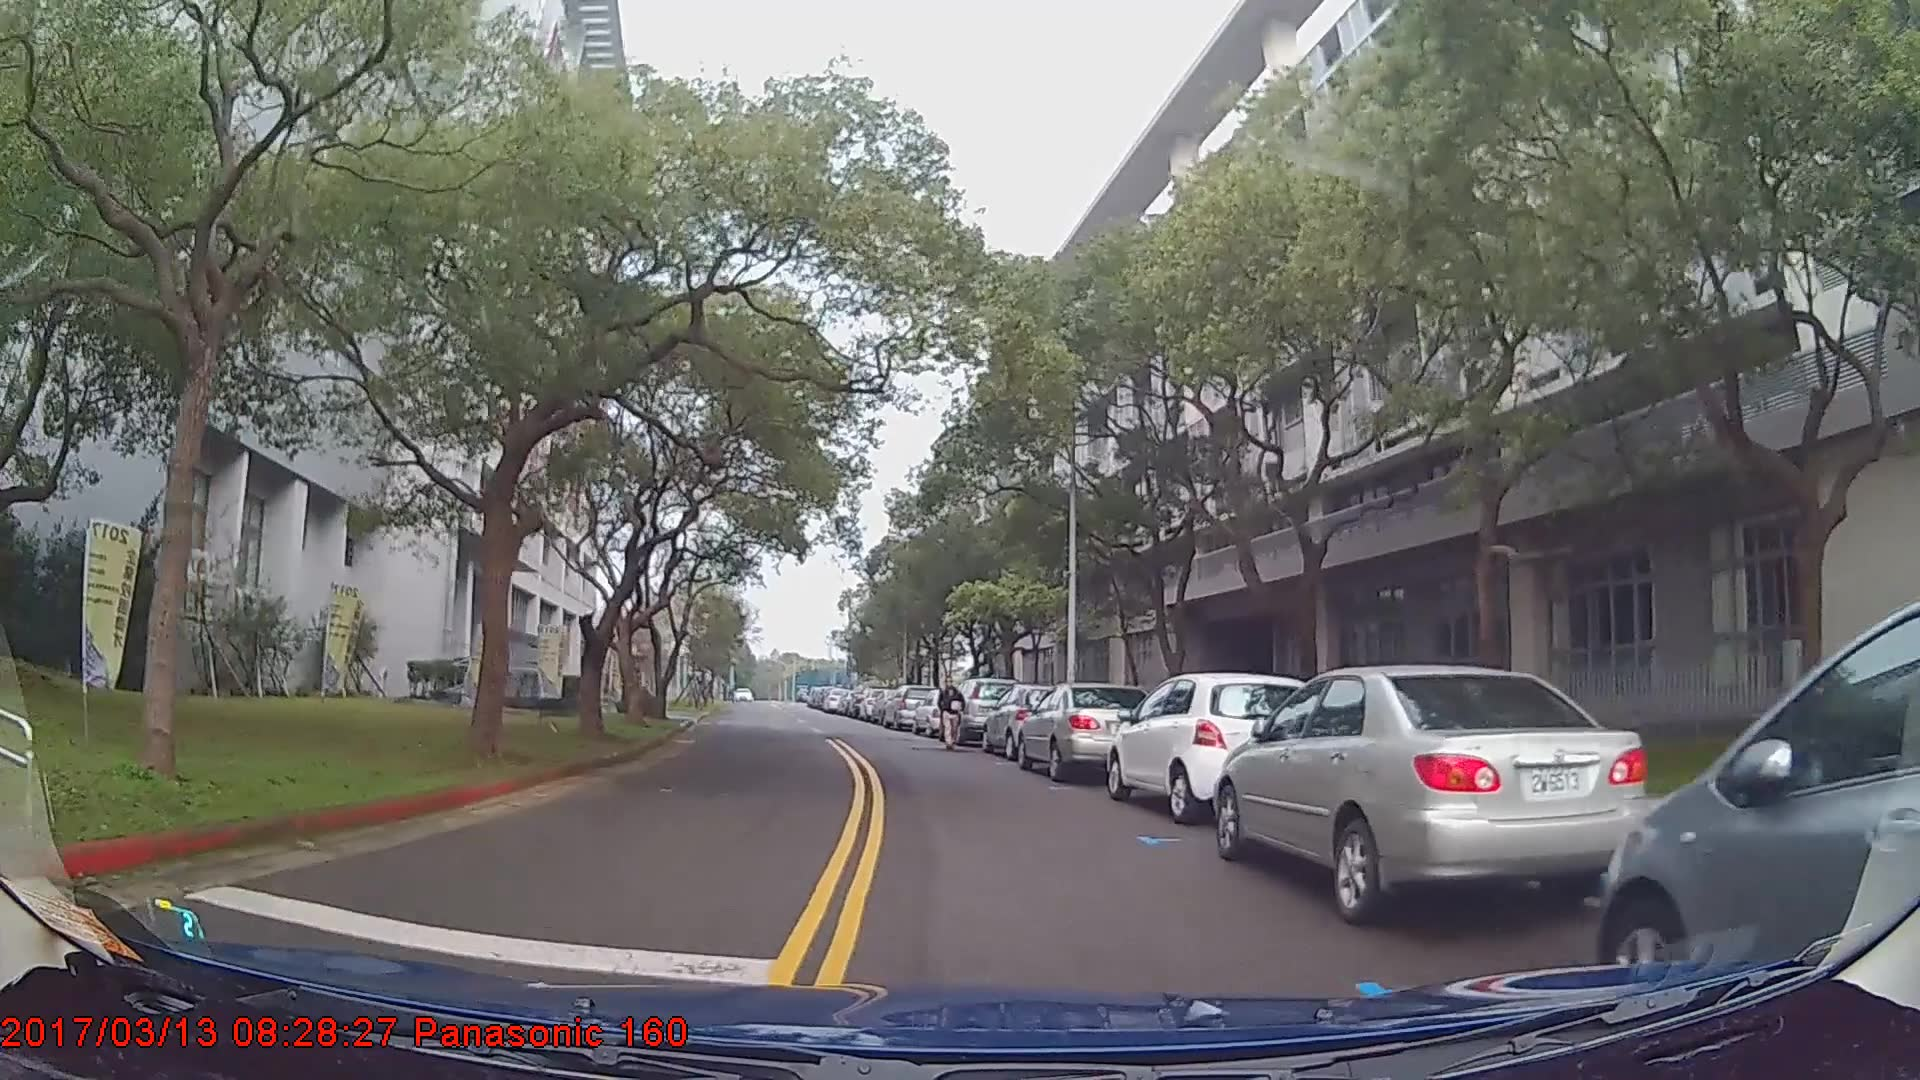pedestrian: (938, 676, 965, 752)
vehicle: (1596, 595, 1920, 991), (1209, 661, 1652, 930), (1107, 670, 1317, 826), (1017, 681, 1155, 783), (981, 683, 1084, 763), (948, 676, 1019, 747), (882, 681, 936, 728)
